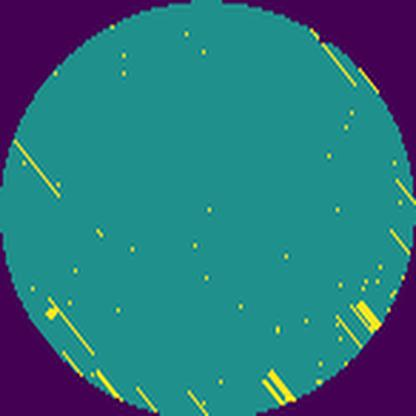Scratch: (47, 294, 98, 360), (14, 139, 64, 200), (258, 365, 298, 408), (348, 296, 384, 335), (332, 314, 364, 352), (93, 364, 124, 401), (392, 174, 416, 208), (387, 228, 412, 259)
